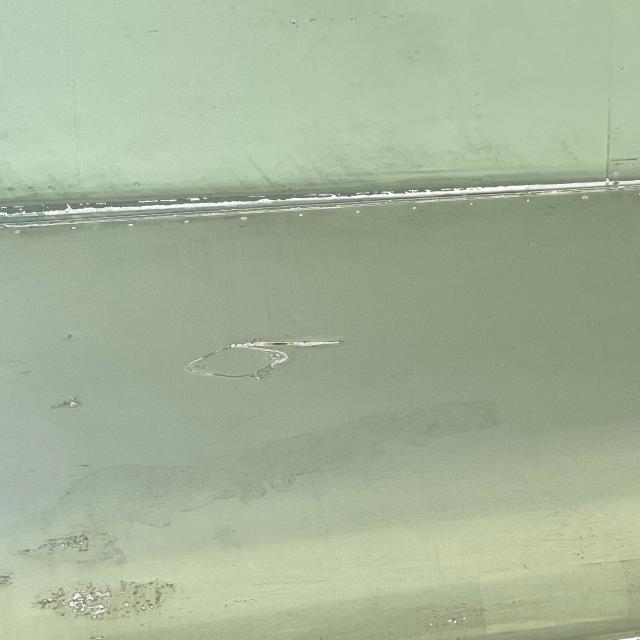crack: (232, 339, 349, 356)
